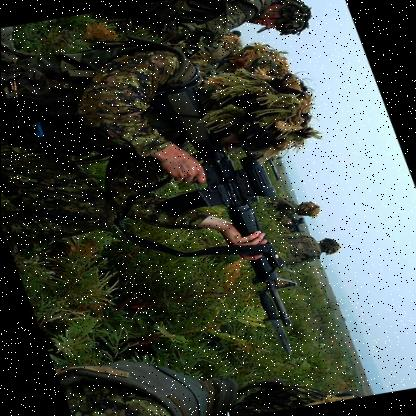rifle: (118, 82, 316, 326)
